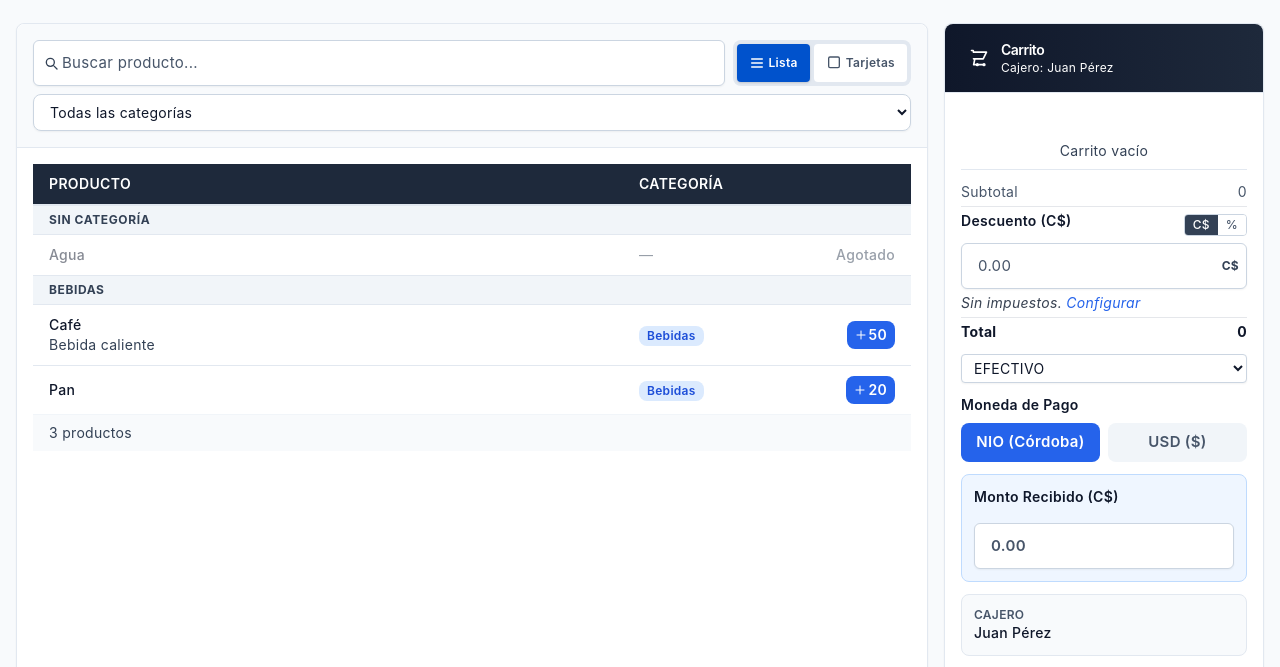
POSPage › Cart – adding products › enables 'Completar Venta' button after adding a product
Expected: the text "Café" is shown, [49,316,82,333]
Click the button "50" at [871, 335], box [847,321,895,349]
(page scrolled)
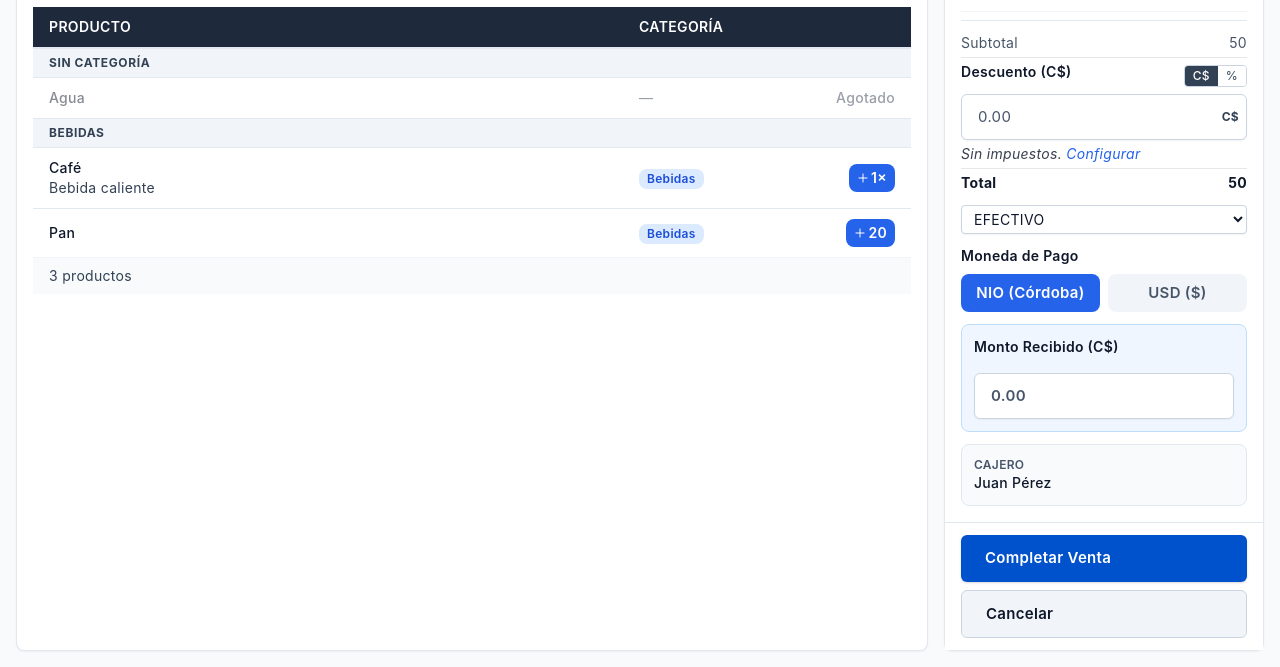
Result: the button "Completar Venta" is enabled at [961,535,1247,582]
